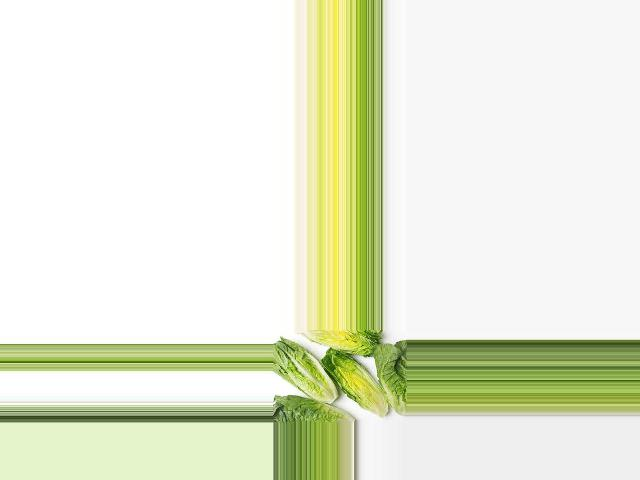lettuce: (371, 339, 407, 413)
